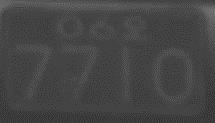0: (151, 45, 194, 105), (56, 14, 85, 41)
1: (108, 44, 145, 101)
6: (88, 13, 115, 42)
7: (14, 42, 53, 100), (60, 44, 99, 99)
오: (119, 13, 149, 43)
